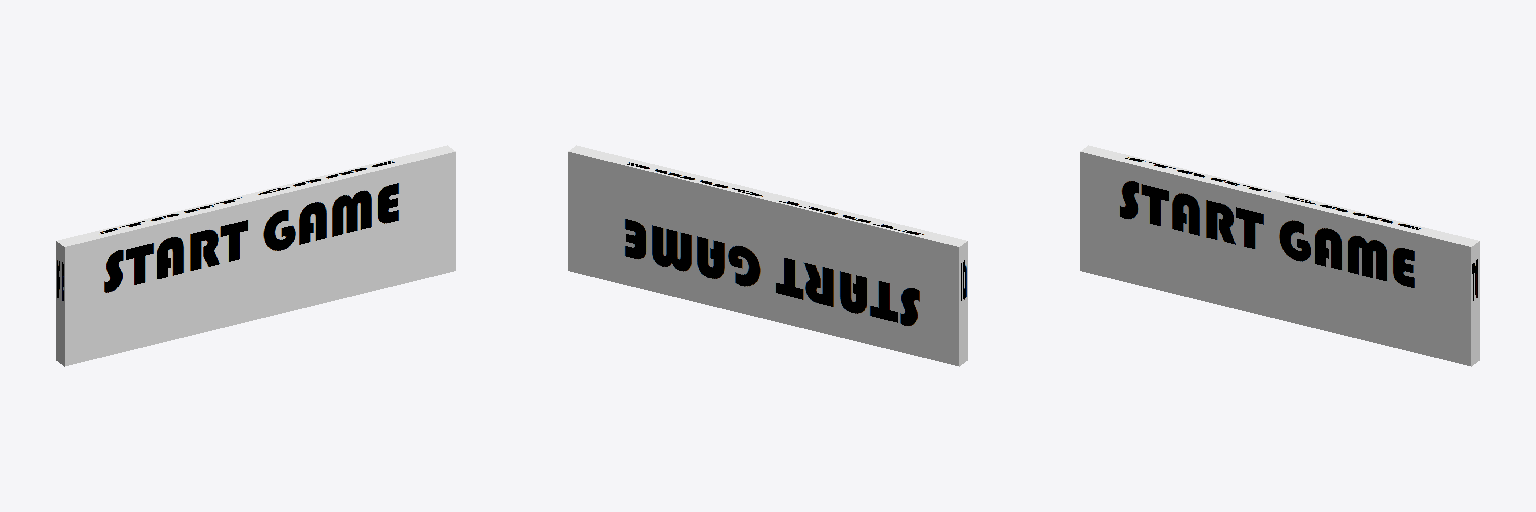
The picture shows the model from 3 angles: view 1: azimuth 30°, elevation 25°; view 2: azimuth 150°, elevation 25°; view 3: azimuth 330°, elevation 25°; orthographic projection.
Parts seen in each view (by area): view 1: pCube1; view 2: pCube1; view 3: pCube1.
Part boxes in pixels (left/top/right/bottom): pCube1: left=56, top=145, right=455, bottom=366; pCube1: left=568, top=145, right=967, bottom=366; pCube1: left=1080, top=145, right=1479, bottom=366.
Bounding box in the file's own units: 1.04 × 0.3027 × 0.0389.
1 materials, 1 textured.